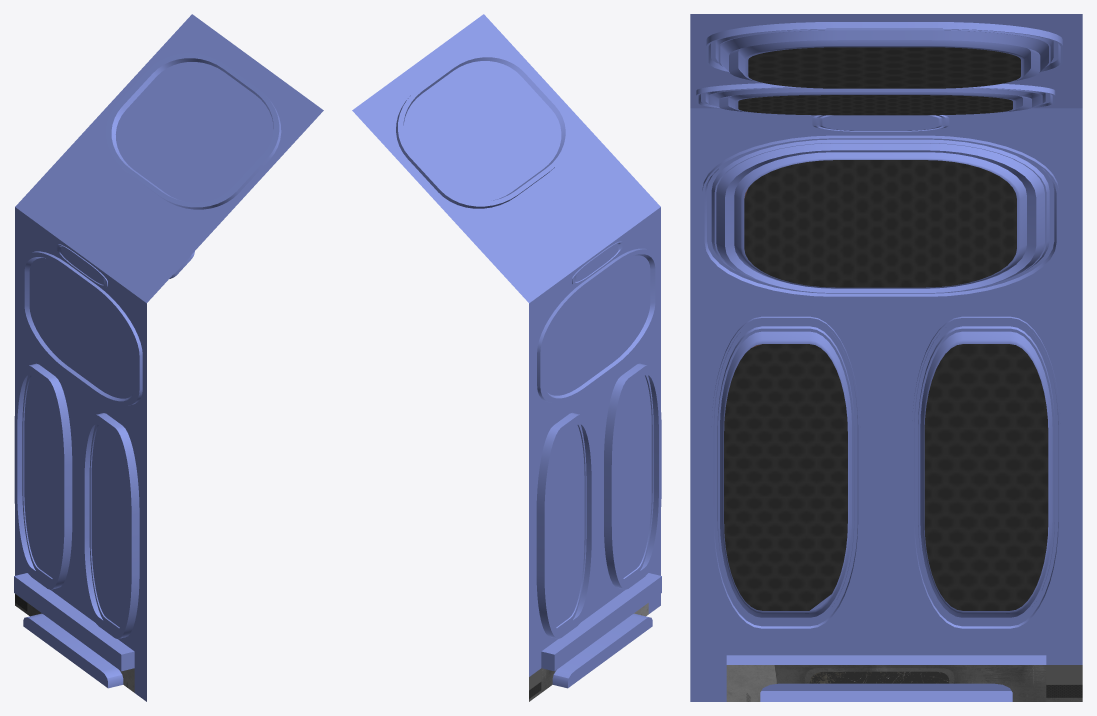
Rendered from Mur_02.fbx.
3 views of the same model, side by side, from view 1: azimuth 30°, elevation 25°; view 2: azimuth 150°, elevation 25°; view 3: azimuth 270°, elevation 25° (orthographic). The views are drawn at different scales.
Parts seen in each view (by area): view 1: Mur_02; view 2: Mur_02; view 3: Mur_02.
Boxes of the visible parts, x1,y1,x2,y2 form: Mur_02: (14, 14, 323, 701); Mur_02: (352, 14, 661, 701); Mur_02: (690, 14, 1082, 701).
Bounding box in the file's own units: 1.16 × 3.15 × 1.37.
